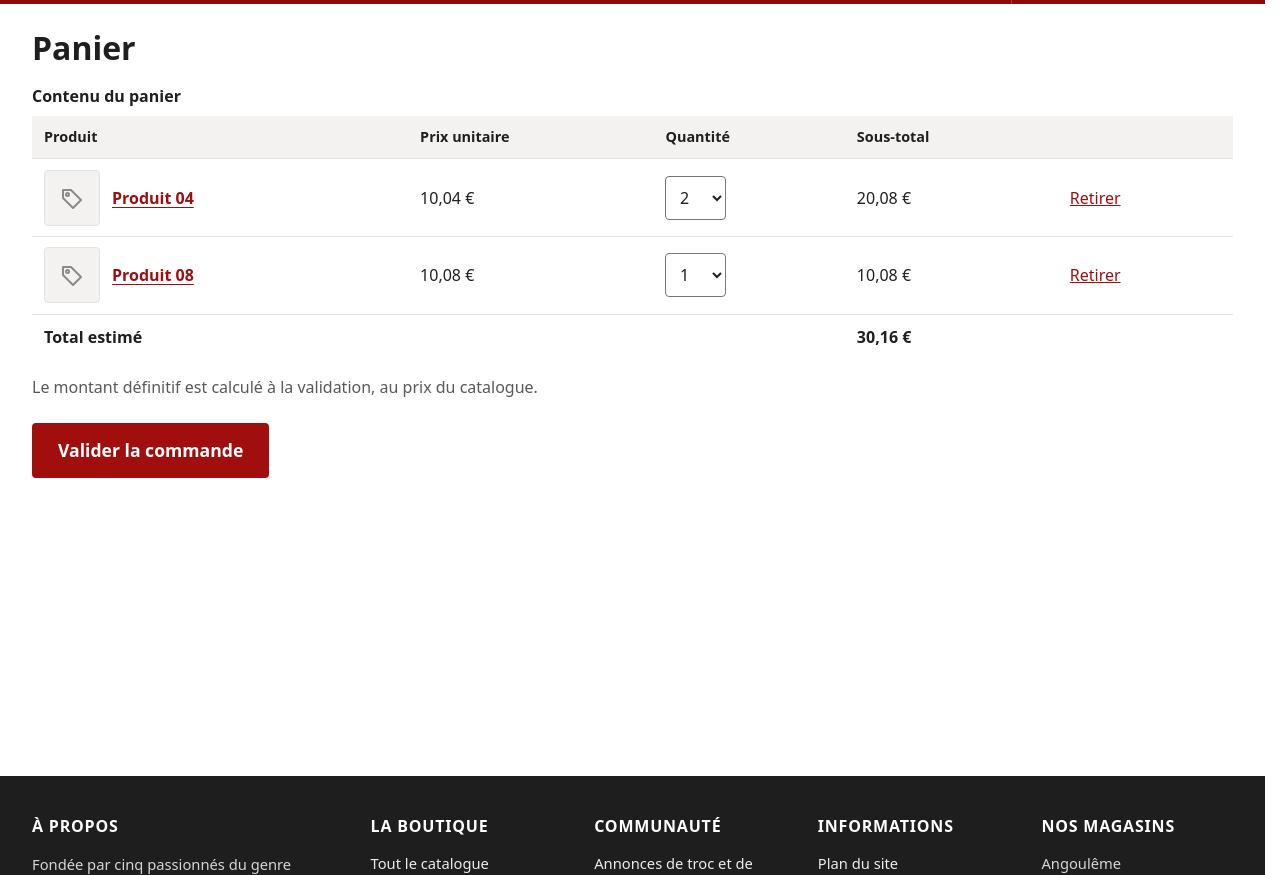
Test: Panier › passe la commande, vide le panier et ouvre le suivi
The image size is (1280, 875).
(page scrolled)
Expected: the heading "Panier" is shown, [32,26,136,69]
Click the button "Valider la commande": point(151, 451) [32,424,269,478]
(page scrolled)
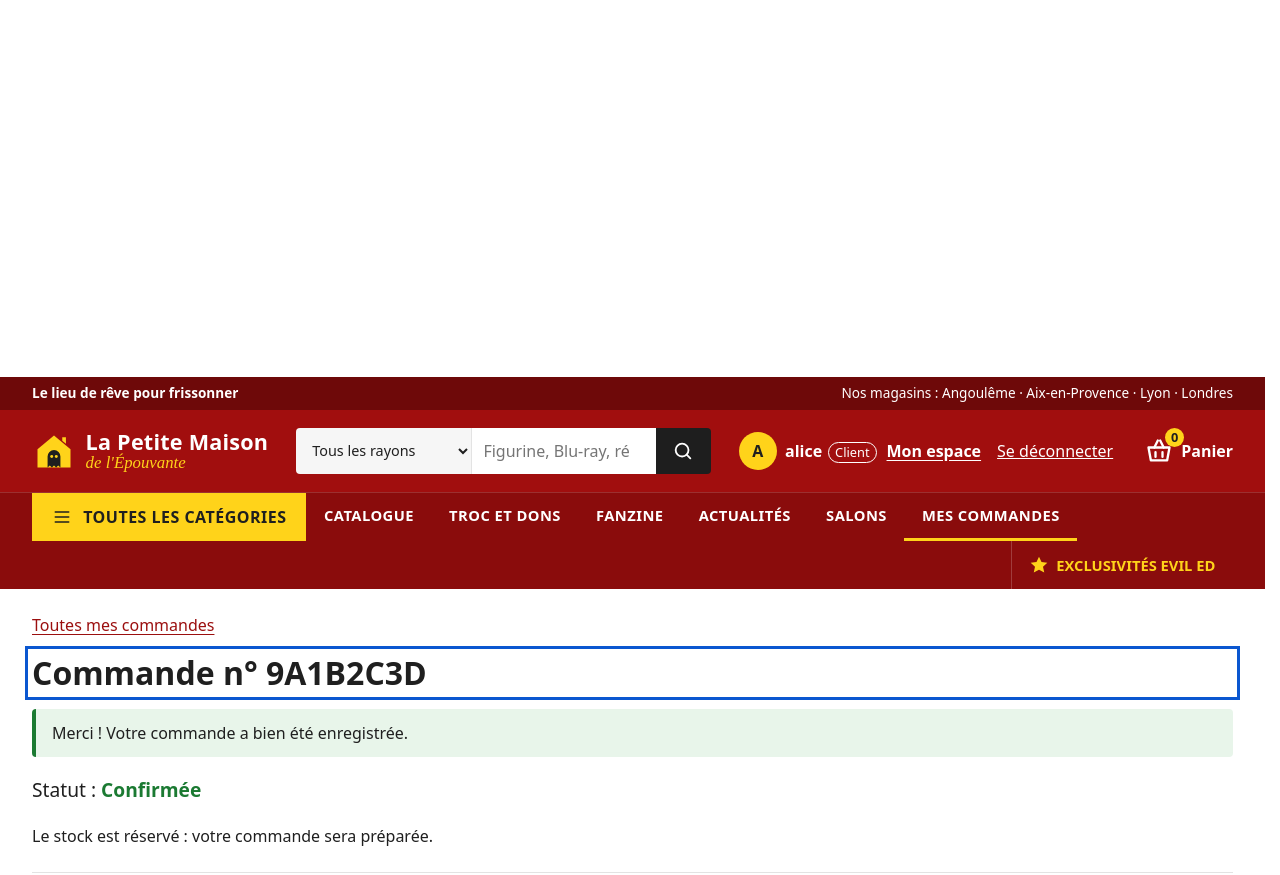
Expected: the link "0 Panier" is shown, [1145,437,1233,465]
Expected: the heading "Commande n° 9A1B2C3D" is shown, [32,651,427,694]
Expected: the text "Merci ! Votre commande a bien été enregistrée." is shown, [32,709,1233,757]
